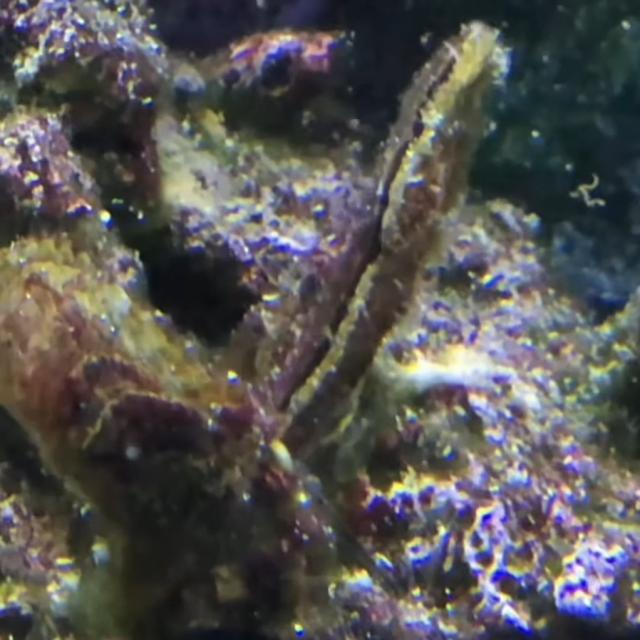Oyster-Closed: (224, 22, 510, 459)
Oyster-Indeterminate: (0, 236, 303, 603)
